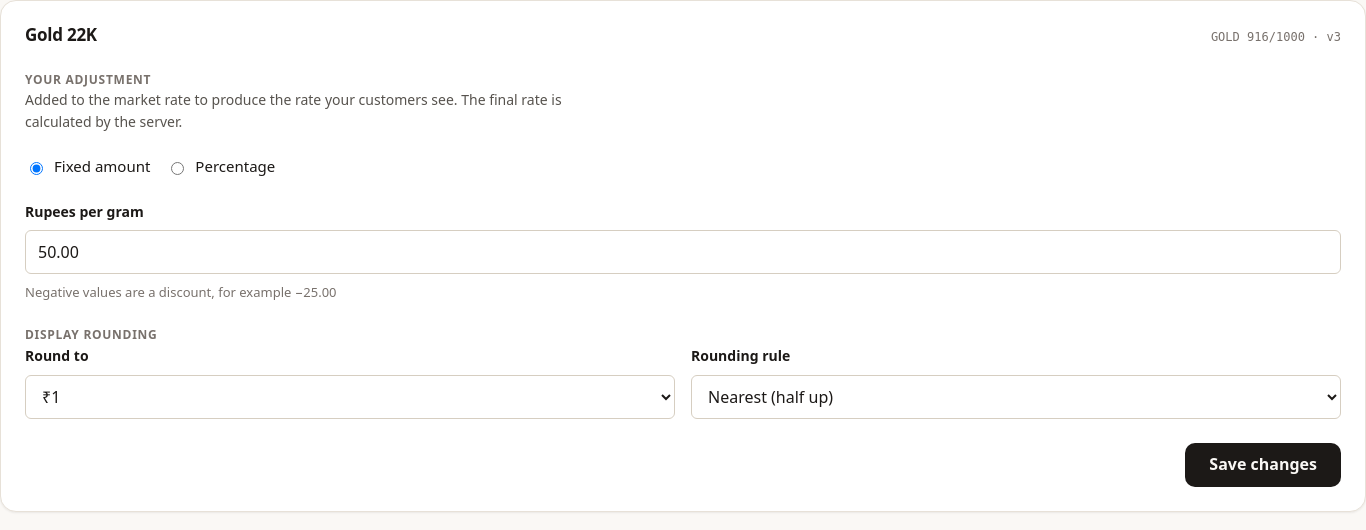
Test: accessibility › Editor_savingState_disablesTheButtonAndSaysSo
Step 1. Click the button "Save changes" → {"x": 1263, "y": 465}, box [1185, 443, 1341, 487]
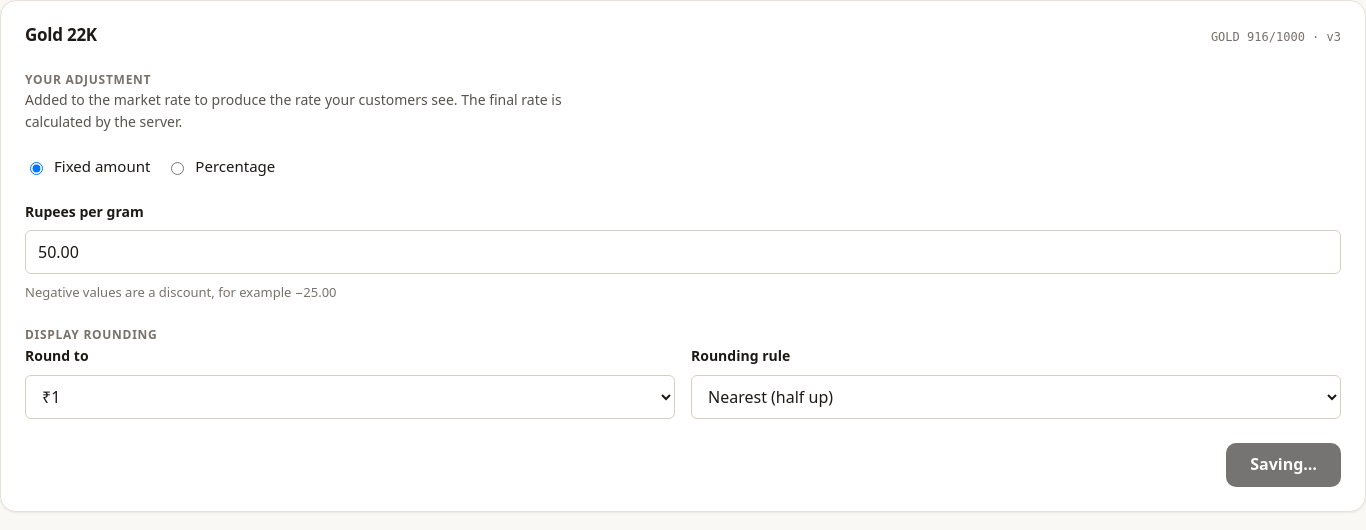
Check: the button "Saving…" is disabled, box [1226, 443, 1341, 487]
